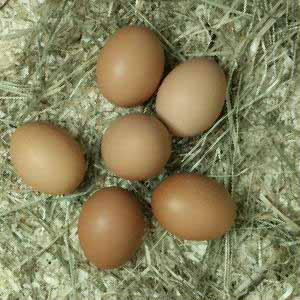egg: (150, 172, 237, 241), (153, 58, 227, 138), (77, 187, 145, 271), (10, 122, 87, 195), (96, 26, 165, 107), (100, 113, 173, 180)
